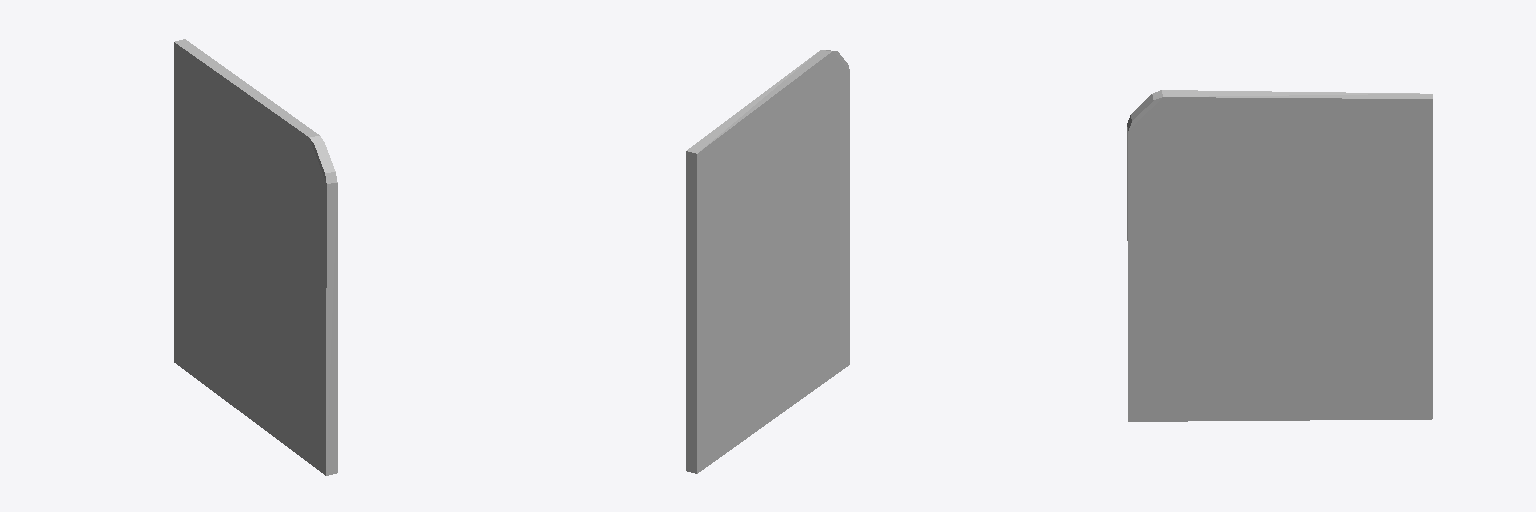
The model's file is sekat.obj.
3 renders of one model, left to right at view 1: azimuth 30°, elevation 25°; view 2: azimuth 150°, elevation 25°; view 3: azimuth 270°, elevation 25°, orthographic.
Parts seen in each view (by area): view 1: Cube_Cube.001; view 2: Cube_Cube.001; view 3: Cube_Cube.001.
Part boxes in pixels (bbox=[...]): Cube_Cube.001: bbox=[174, 39, 337, 475]; Cube_Cube.001: bbox=[686, 50, 849, 473]; Cube_Cube.001: bbox=[1127, 90, 1432, 421].
Bounding box in the file's own units: 0.5045 × 13.57 × 11.53.